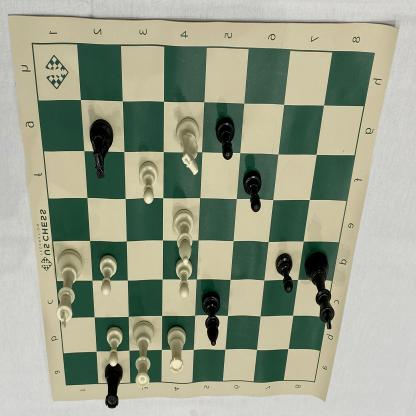black-bishop: (201, 288, 222, 349)
black-king: (303, 249, 337, 333)
black-knight: (86, 114, 119, 181)
black-pawn: (214, 114, 236, 166), (242, 167, 264, 216), (275, 250, 295, 298)
black-rook: (100, 358, 126, 412)
white-bishop: (168, 206, 196, 266)
white-king: (52, 247, 84, 332)
white-knight: (174, 113, 203, 180)
white-pawn: (101, 322, 128, 370), (136, 156, 158, 208), (97, 252, 119, 298), (172, 258, 194, 302)
white-queen: (130, 318, 156, 392)
white-rook: (164, 324, 189, 376)
